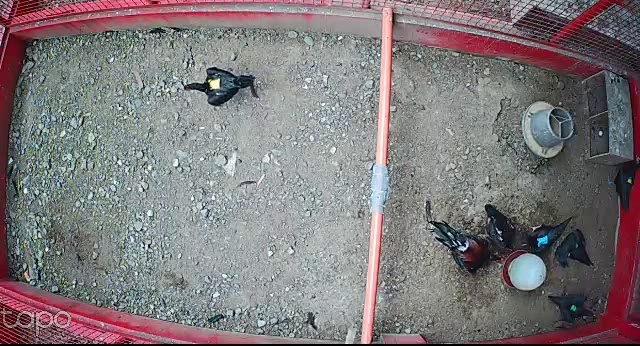Chicken: (181, 66, 259, 108), (603, 149, 640, 220), (521, 213, 573, 257), (543, 288, 599, 327), (479, 203, 518, 253), (551, 228, 597, 268)
Drinker: (499, 247, 548, 292)
Feeder: (521, 99, 574, 161)
Rooster: (426, 218, 508, 277)
Saddle_Color_Blue: (536, 235, 549, 247)
Saddle_Color_Green: (570, 304, 578, 311)
Saddle_Color_Yellow: (208, 75, 223, 91)
Saddle_Color_YellowGreen: (625, 176, 635, 186)
